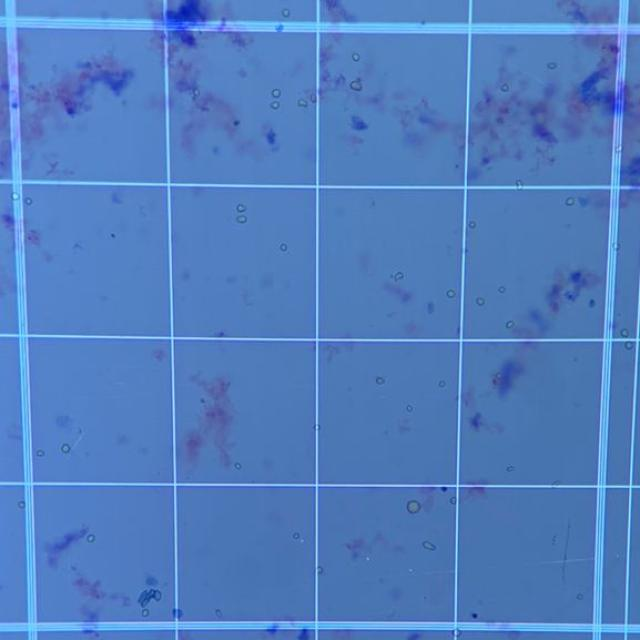Cell: (406, 500, 421, 514), (422, 540, 437, 551), (145, 576, 159, 587), (350, 79, 362, 91), (236, 203, 247, 213), (122, 596, 132, 607), (394, 272, 404, 282), (172, 608, 182, 618), (236, 214, 247, 223), (272, 88, 281, 98), (352, 52, 361, 62), (270, 101, 280, 110), (547, 61, 557, 70), (446, 289, 456, 298), (565, 197, 575, 206), (624, 341, 634, 350), (376, 376, 385, 385), (476, 297, 485, 306), (505, 320, 514, 329), (61, 444, 70, 453), (452, 628, 461, 637), (620, 329, 630, 337), (298, 99, 308, 107), (280, 243, 288, 252), (86, 534, 95, 542), (500, 84, 509, 92), (516, 180, 524, 189), (282, 8, 290, 17), (36, 449, 45, 457), (192, 89, 200, 98), (310, 93, 317, 103), (215, 608, 222, 618), (468, 221, 476, 229), (292, 532, 300, 540), (234, 462, 242, 470), (142, 609, 150, 617), (612, 243, 621, 250), (25, 198, 33, 205), (498, 286, 506, 293), (406, 404, 413, 412), (438, 380, 446, 387), (12, 193, 20, 200), (18, 501, 26, 508), (495, 372, 502, 380), (614, 145, 622, 152), (314, 424, 320, 432), (317, 566, 323, 574), (506, 466, 514, 472), (576, 594, 584, 600), (450, 497, 456, 504), (365, 556, 371, 562)
